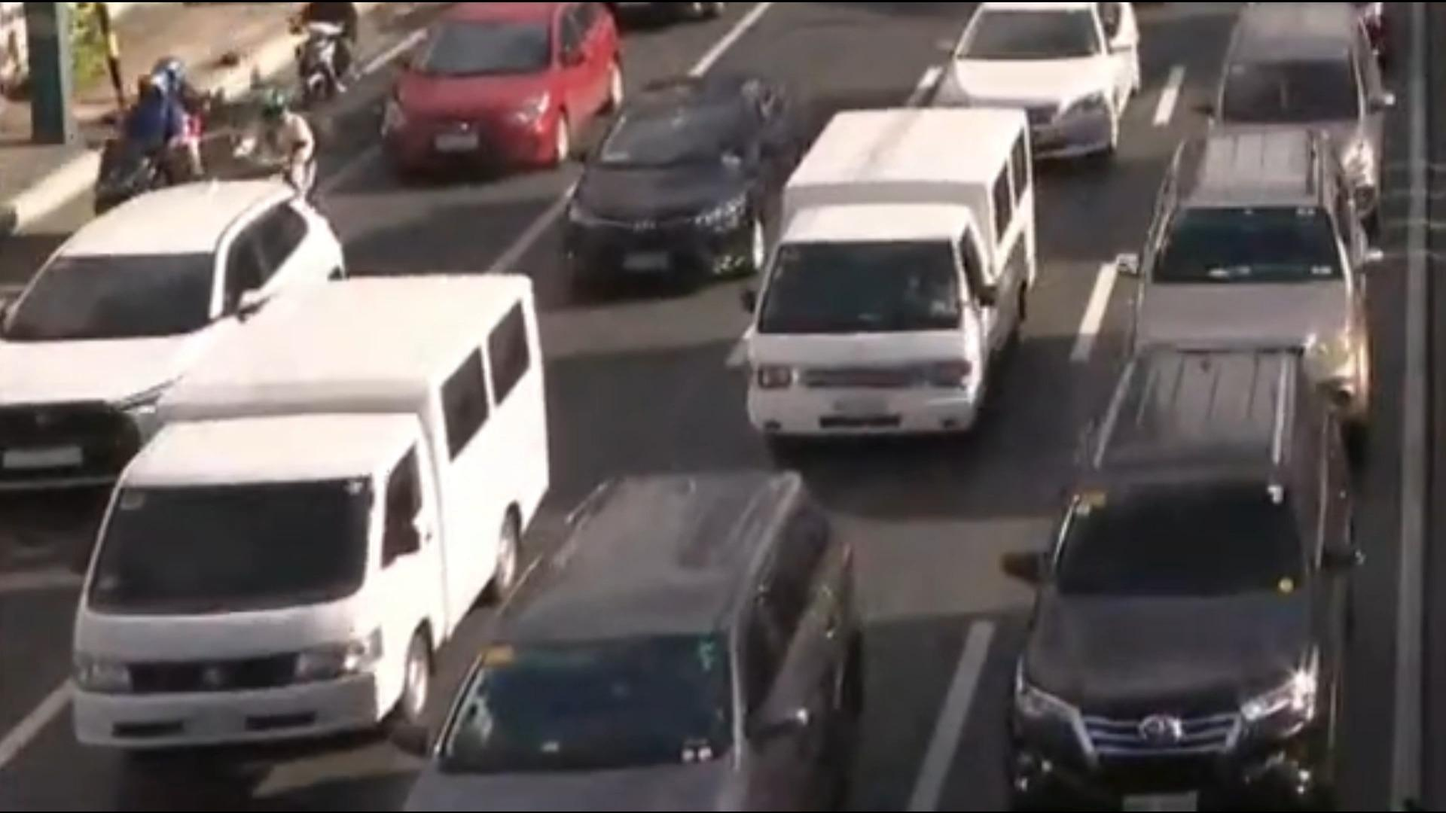Motorcycle: (93, 53, 226, 203), (241, 74, 343, 214), (266, 0, 371, 96)
Multicab: (30, 239, 573, 789), (727, 109, 1046, 454)
SUV: (388, 435, 923, 813), (966, 358, 1382, 813), (0, 175, 351, 503), (1073, 115, 1401, 444), (1192, 0, 1409, 203)
Sedan: (521, 49, 819, 313), (893, 0, 1160, 167), (375, 0, 627, 176)
